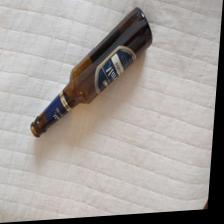glass: (31, 8, 151, 136)
